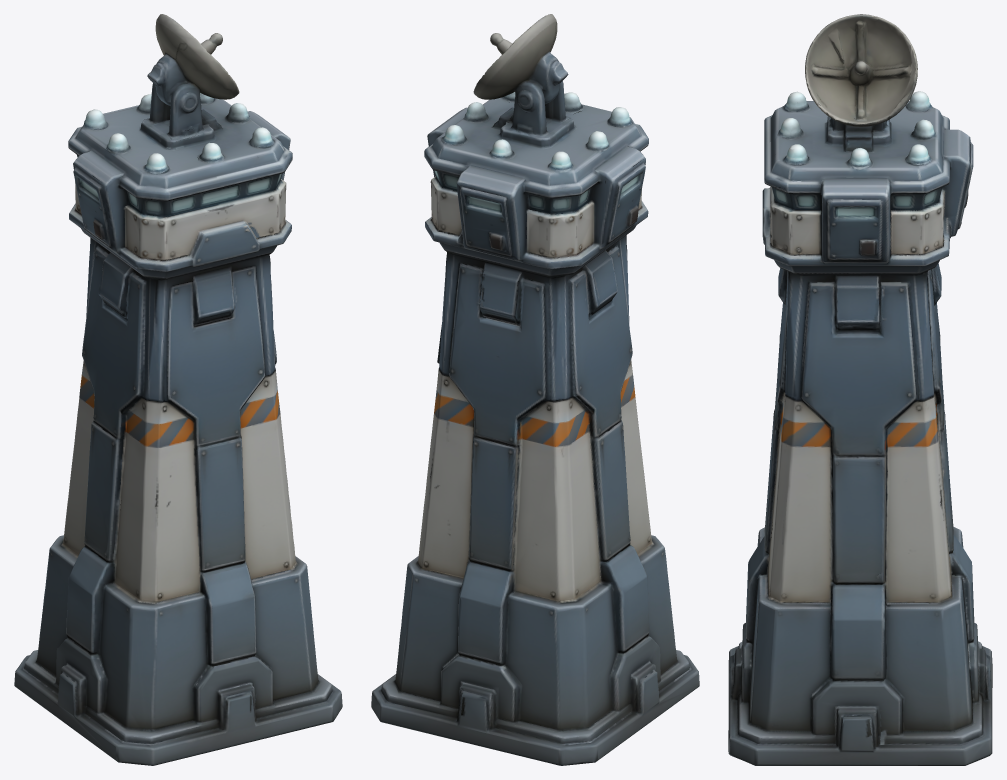
3 renders of one model, left to right at view 1: azimuth 30°, elevation 25°; view 2: azimuth 150°, elevation 25°; view 3: azimuth 270°, elevation 25°, orthographic. The views are drawn at different scales.
Visible parts, largest first — view 1: repaired; view 2: repaired; view 3: repaired.
Part boxes in pixels (<box>): repaired: <box>14,14,342,765</box>; repaired: <box>371,14,699,765</box>; repaired: <box>728,14,992,765</box>.
Bounding box in the file's own units: 0.3529 × 0.999 × 0.3451.
Materials: 1 (1 with a texture image).
